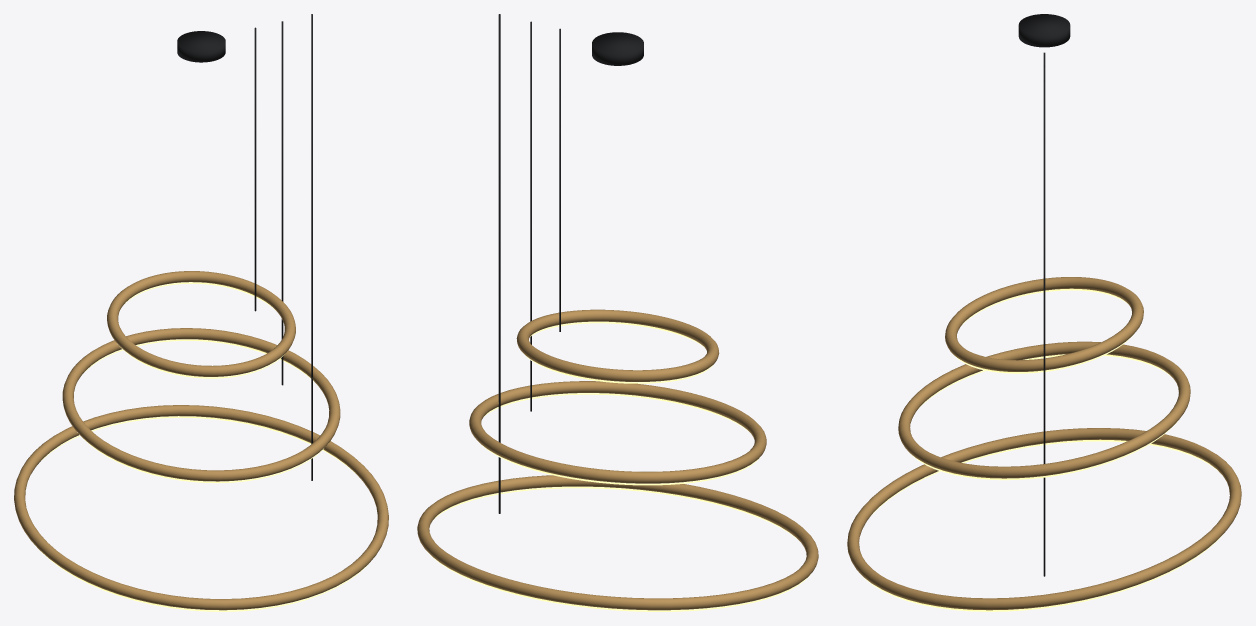
The model's file is bl_ring_pendant.glb.
3 views of the same model, side by side, from view 1: azimuth 30°, elevation 25°; view 2: azimuth 150°, elevation 25°; view 3: azimuth 270°, elevation 25° (orthographic). The views are drawn at different scales.
Parts seen in each view (by area): view 1: ring, ring.001, ring.002, canopy, ringLed, wire.001, ringLed.001, wire, wire.002, ringLed.002; view 2: ring, ring.001, ring.002, ringLed, canopy, wire, ringLed.001, ringLed.002, wire.001, wire.002; view 3: ring, ring.001, ring.002, canopy, wire, ringLed, ringLed.001, ringLed.002.
Part boxes in pixels (<box>): ring: <box>14,405,388,610</box>; ring.001: <box>62,328,340,481</box>; ring.002: <box>107,271,295,376</box>; canopy: <box>177,31,225,62</box>; ringLed: <box>33,416,373,611</box>; wire.001: <box>281,21,283,385</box>; ringLed.001: <box>77,339,323,483</box>; wire: <box>311,14,312,480</box>; wire.002: <box>254,27,256,311</box>; ringLed.002: <box>119,282,284,378</box>; ring: <box>417,475,818,610</box>; ring.001: <box>469,381,766,483</box>; ring.002: <box>516,309,719,381</box>; ringLed: <box>427,486,810,611</box>; canopy: <box>592,32,643,65</box>; wire: <box>498,14,500,513</box>; ringLed.001: <box>477,393,759,485</box>; ringLed.002: <box>523,321,712,383</box>; wire.001: <box>530,21,531,411</box>; wire.002: <box>559,28,560,331</box>; ring: <box>847,428,1241,610</box>; ring.001: <box>898,341,1190,478</box>; ring.002: <box>945,277,1143,371</box>; canopy: <box>1018,14,1070,47</box>; wire: <box>1043,81,1045,576</box>; ringLed: <box>859,439,1223,611</box>; ringLed.001: <box>908,354,1177,480</box>; ringLed.002: <box>953,288,1133,373</box>.
Bounding box in the file's own units: 0.928 × 1.35 × 0.919.
